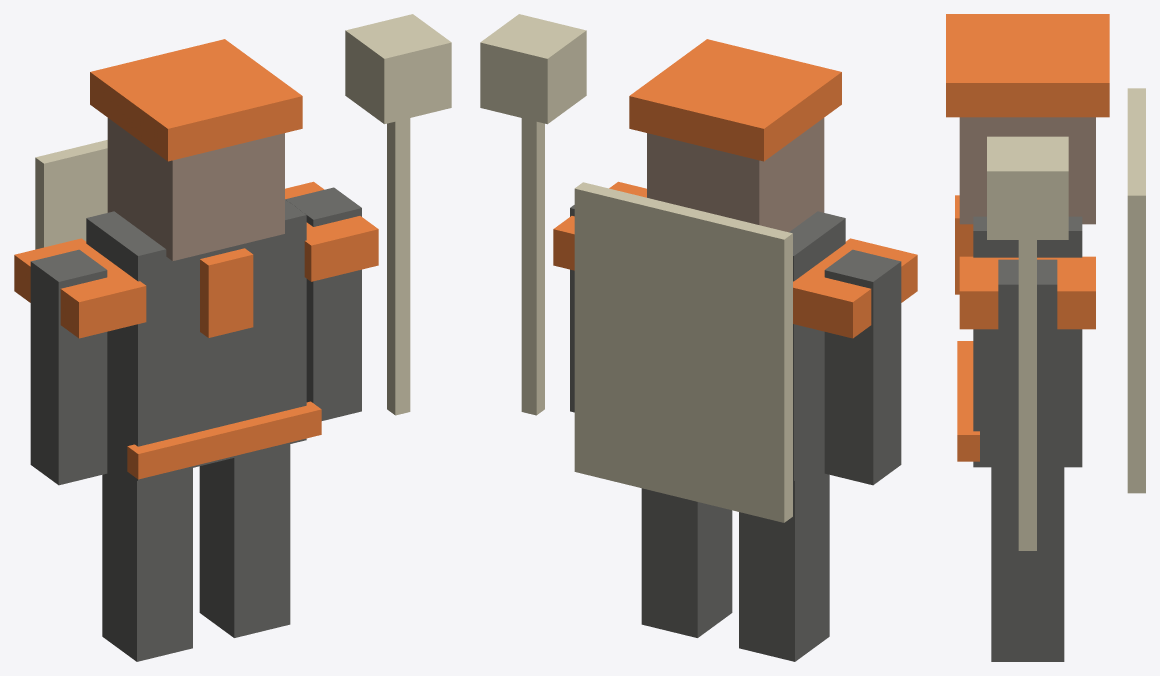
Rendered from 15_astra_riftwalker_navigator_under_outer.glb.
3 renders of one model, left to right at view 1: azimuth 30°, elevation 25°; view 2: azimuth 150°, elevation 25°; view 3: azimuth 270°, elevation 25°, orthographic. The views are drawn at different scales.
Visible parts, largest first — view 1: Astra Riftwalker, Navigator under Outer; view 2: Astra Riftwalker, Navigator under Outer; view 3: Astra Riftwalker, Navigator under Outer.
Part boxes in pixels (x1,y1,x2,y2): Astra Riftwalker, Navigator under Outer: (14,14,451,661); Astra Riftwalker, Navigator under Outer: (480,14,917,661); Astra Riftwalker, Navigator under Outer: (946,14,1145,661).
Bounding box in the file's own units: 1.04 × 1.4 × 0.4424.
